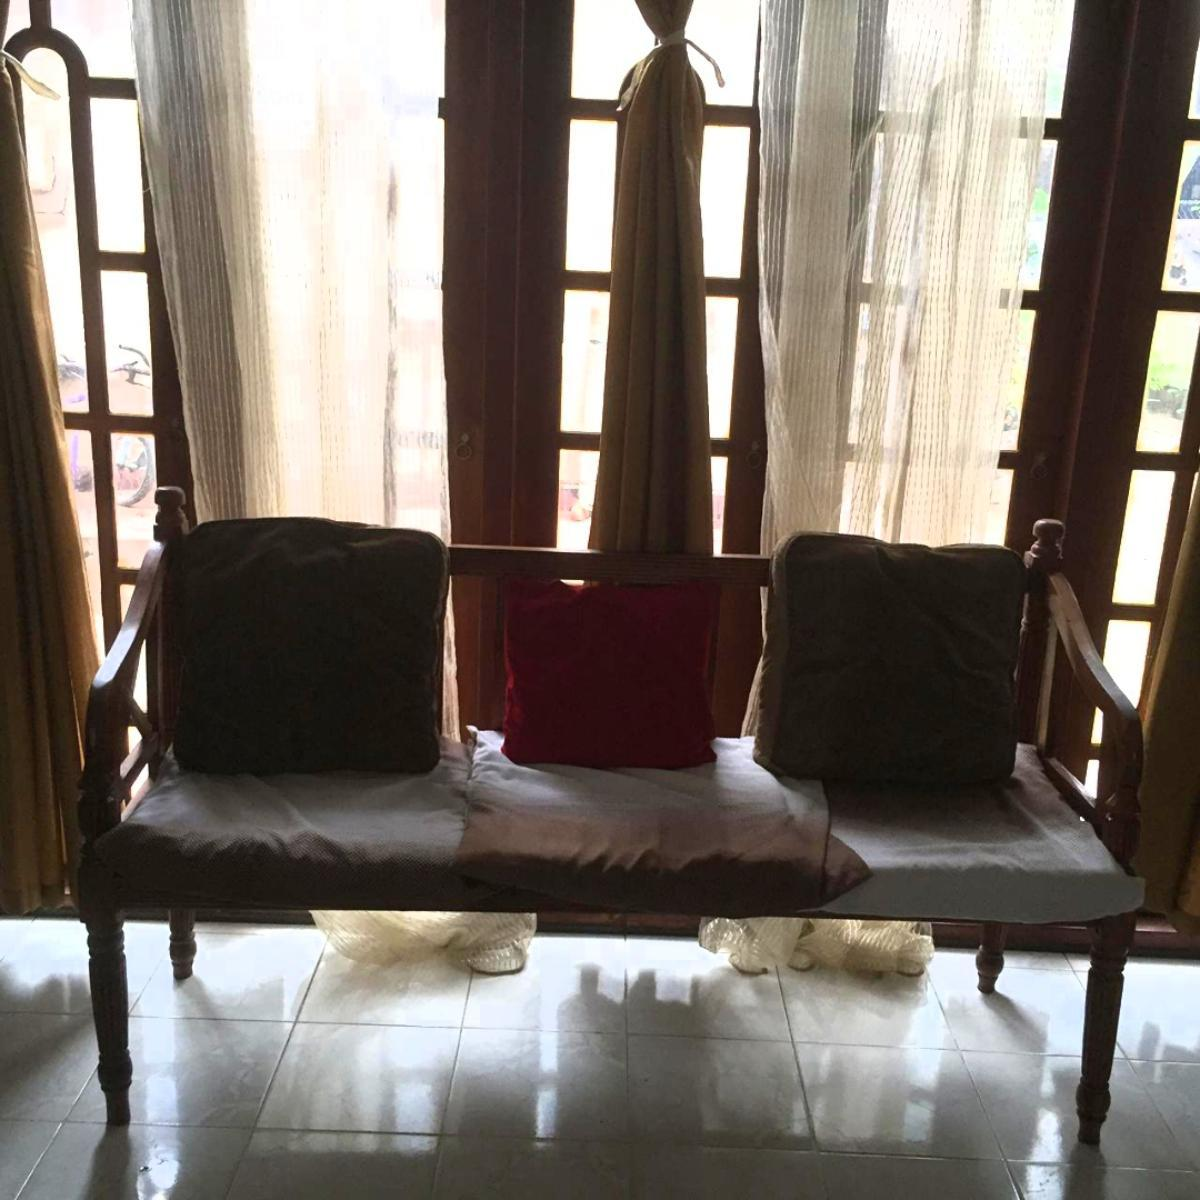Sofa: (76, 483, 1146, 1145)
